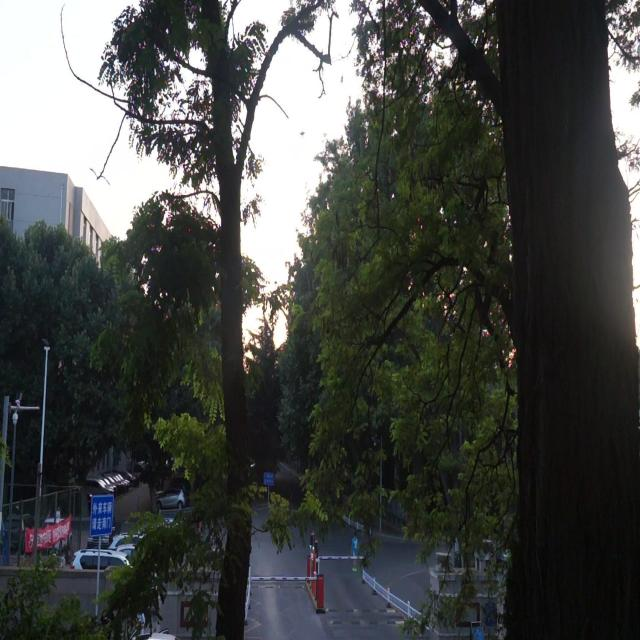drone: (295, 125, 307, 141)
